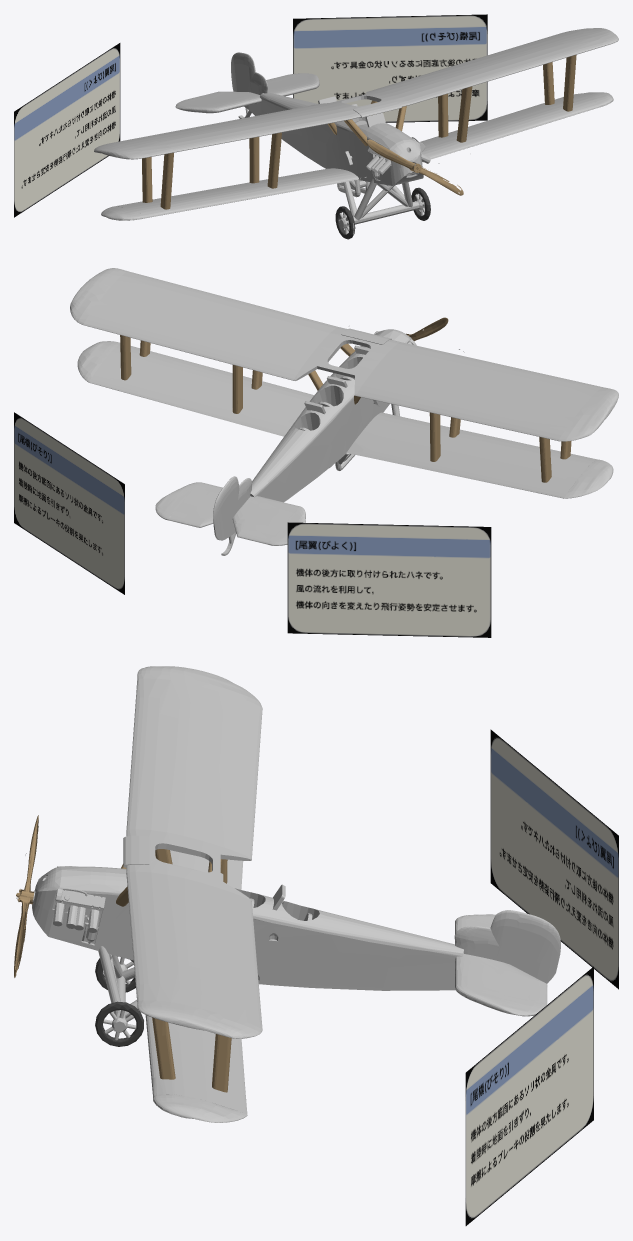
3 views of the same model, one above another, from view 1: azimuth 30°, elevation 25°; view 2: azimuth 150°, elevation 25°; view 3: azimuth 270°, elevation 25° (orthographic). The views are drawn at different scales.
Visible parts, largest first — view 1: hokkai1gou_5_002, 翼間支柱, 複葉機, hokkai1gou_5_004, hokkai1gou_5_005, hokkai1gou_5_003; view 2: hokkai1gou_5_002, 複葉機, 翼間支柱, hokkai1gou_5_004; view 3: hokkai1gou_5_002, 翼間支柱, 複葉機, hokkai1gou_5_004, hokkai1gou_5_003, hokkai1gou_5_005.
Part boxes in pixels (x1,y1,x2,y2): hokkai1gou_5_002: (94,28,618,234); 翼間支柱: (293,14,487,122); 複葉機: (14,43,120,217); hokkai1gou_5_004: (142,55,576,209); hokkai1gou_5_005: (367,139,463,195); hokkai1gou_5_003: (335,187,430,239); hokkai1gou_5_002: (70,268,618,555); 複葉機: (287,522,491,637); 翼間支柱: (14,412,124,594); hokkai1gou_5_004: (120,335,571,482); hokkai1gou_5_002: (16,666,560,1122); 翼間支柱: (465,966,593,1225); 複葉機: (490,729,618,989); hokkai1gou_5_004: (116,849,231,1092); hokkai1gou_5_003: (95,956,143,1046); hokkai1gou_5_005: (14,815,38,977).
Bounding box in the file's own units: 29.78 × 8.96 × 21.38.
6 materials, 2 textured.
